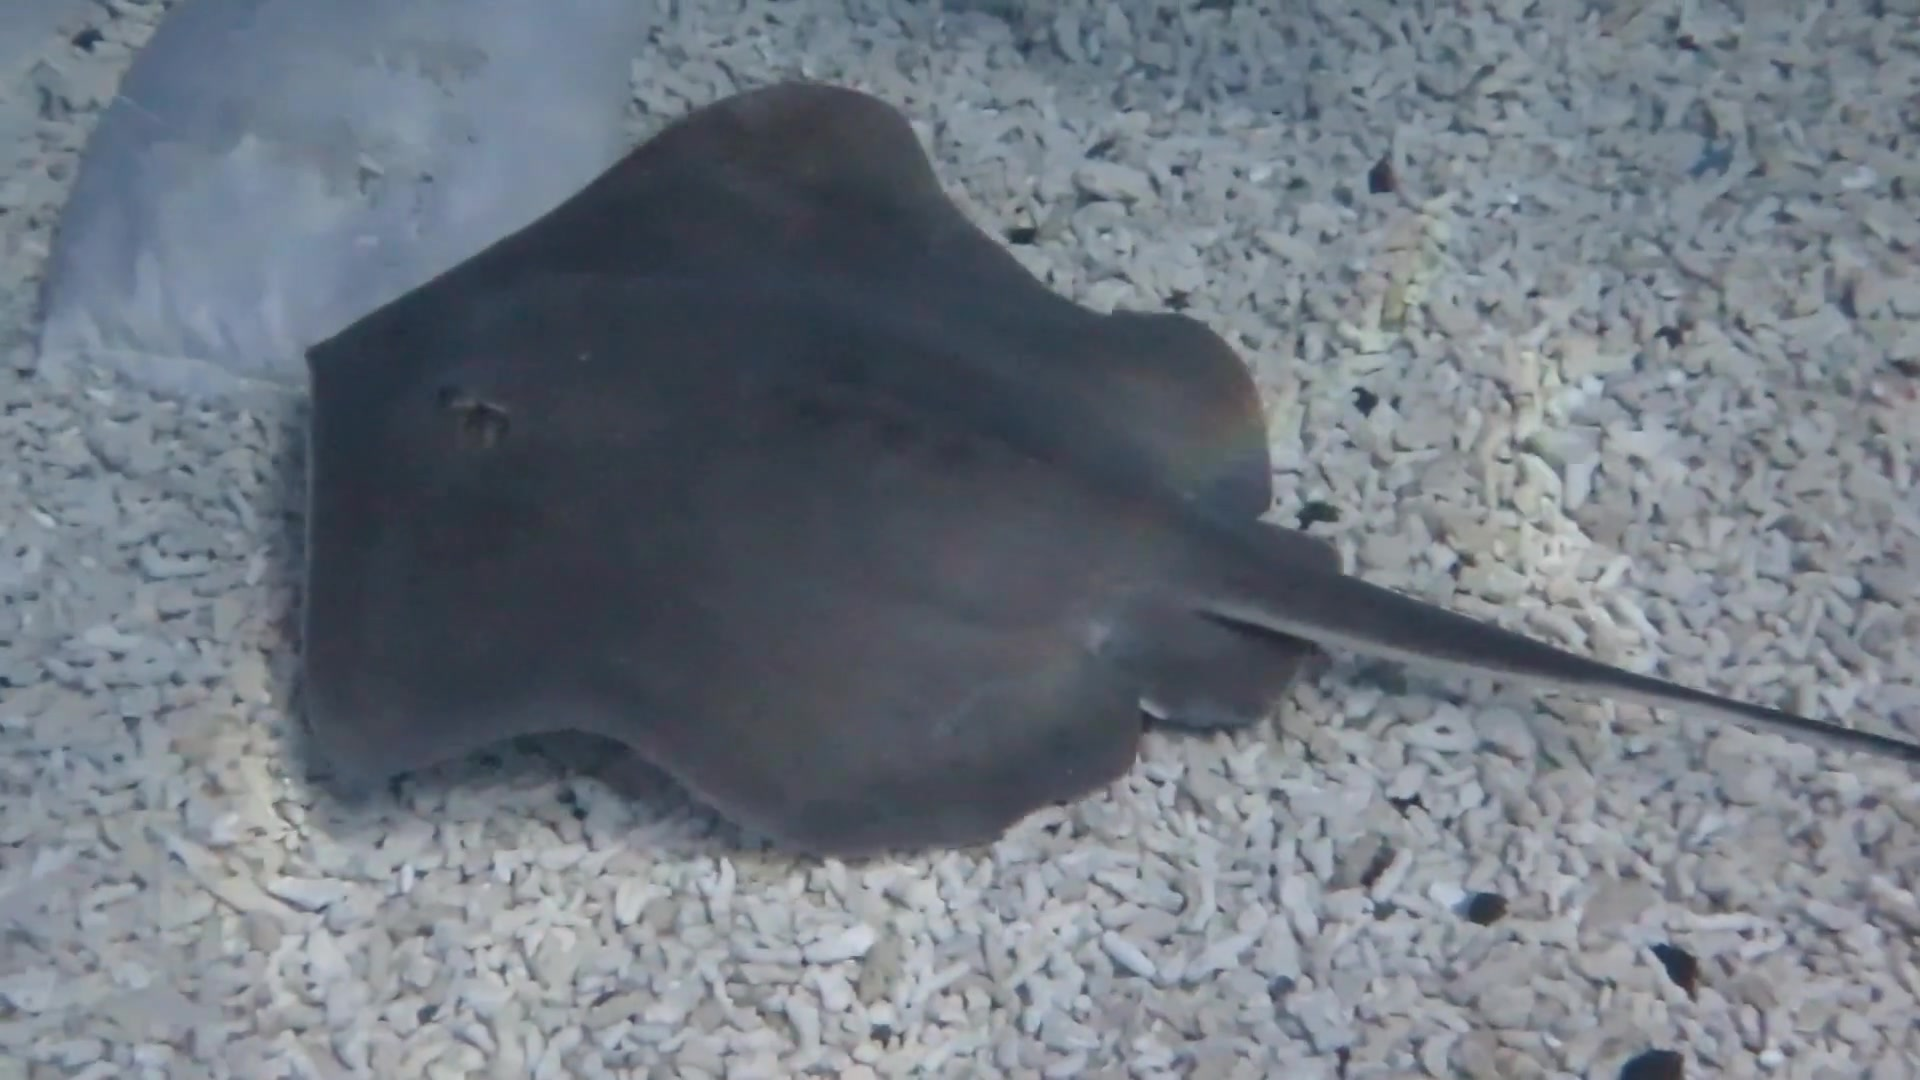Dasyatis bennetti: (229, 65, 1478, 906)
